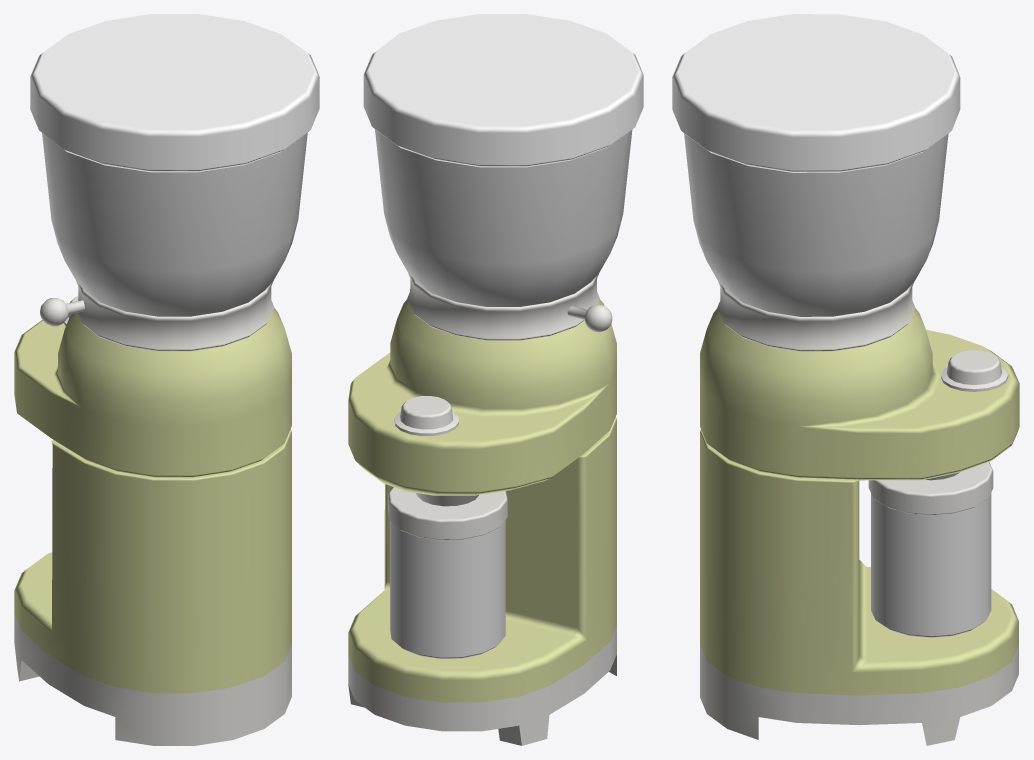
File: Cafe_CoffeeGrinder.fbx
3 renders of one model, left to right at view 1: azimuth 30°, elevation 25°; view 2: azimuth 150°, elevation 25°; view 3: azimuth 270°, elevation 25°, orthographic. The views are drawn at different scales.
Visible parts, largest first — view 1: CoffeeGrinder, Glass; view 2: CoffeeGrinder, Glass, Grounds, Dispenser; view 3: CoffeeGrinder, Glass, Grounds.
Part boxes in pixels (bbox=[...]): CoffeeGrinder: bbox=[14, 14, 319, 745]; Glass: bbox=[42, 133, 307, 316]; CoffeeGrinder: bbox=[348, 14, 643, 745]; Glass: bbox=[375, 129, 632, 306]; Grounds: bbox=[388, 487, 507, 659]; Dispenser: bbox=[415, 493, 478, 506]; CoffeeGrinder: bbox=[672, 14, 1019, 745]; Glass: bbox=[684, 133, 948, 316]; Grounds: bbox=[868, 462, 993, 637].
Size of the model in its own units: 50.74 by 122 by 61.57.
